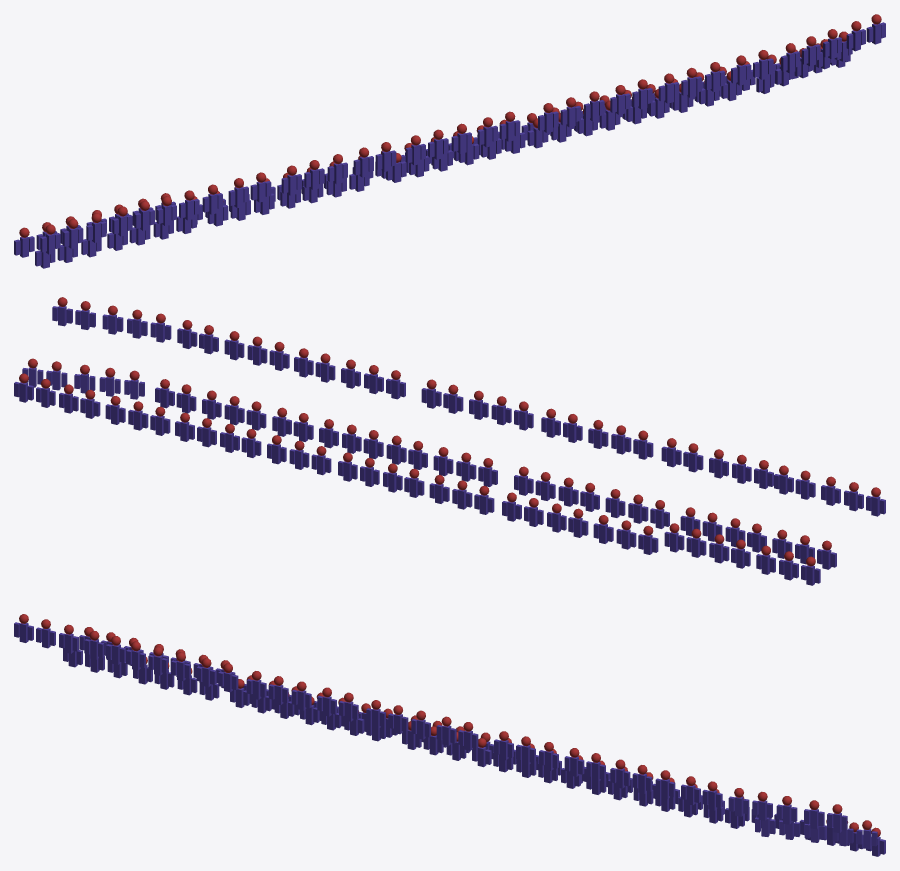
File: supporter.obj
The picture shows the model from 3 angles, top to bottom: view 1: azimuth 30°, elevation 25°; view 2: azimuth 150°, elevation 25°; view 3: azimuth 330°, elevation 25°; orthographic projection. The views are drawn at different scales.
Size of the model in its own units: 95.91 by 8.57 by 10.12.
